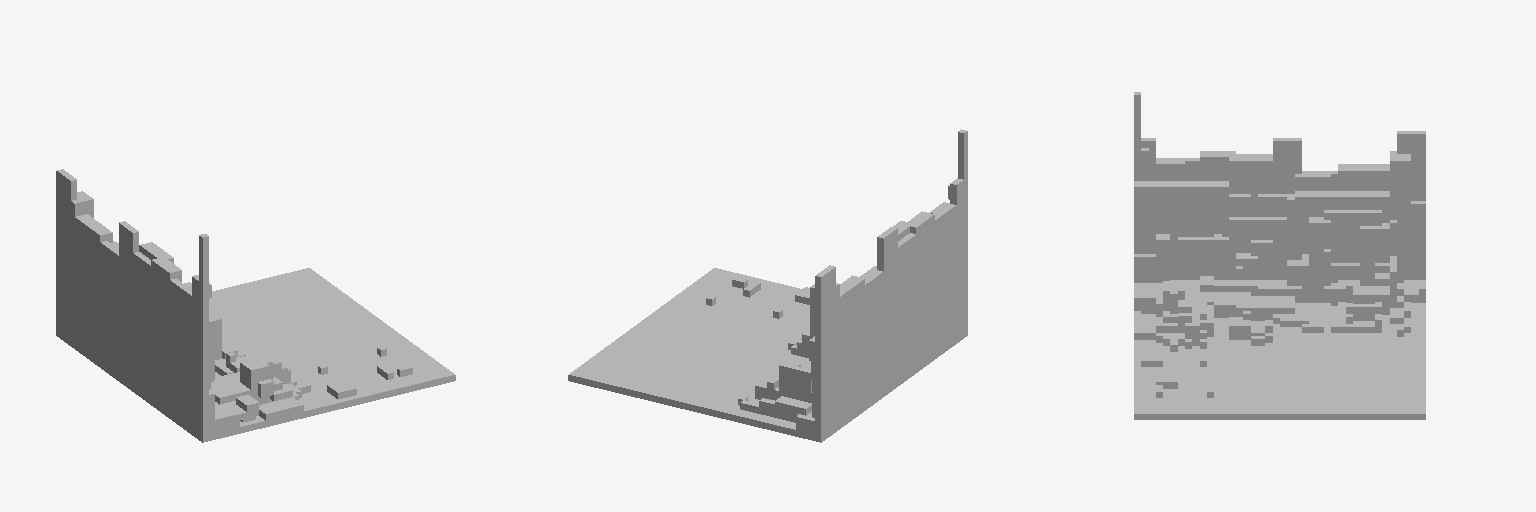
The model's file is floor4.obj.
3 views of the same model, side by side, from view 1: azimuth 30°, elevation 25°; view 2: azimuth 150°, elevation 25°; view 3: azimuth 270°, elevation 25° (orthographic).
Parts seen in each view (by area): view 1: floor4; view 2: floor4; view 3: floor4.
Boxes of the visible parts, <box> form: floor4: <box>56,169,455,442</box>; floor4: <box>568,129,967,442</box>; floor4: <box>1134,92,1425,419</box>.
Size of the model in its own units: 40 by 31 by 40.